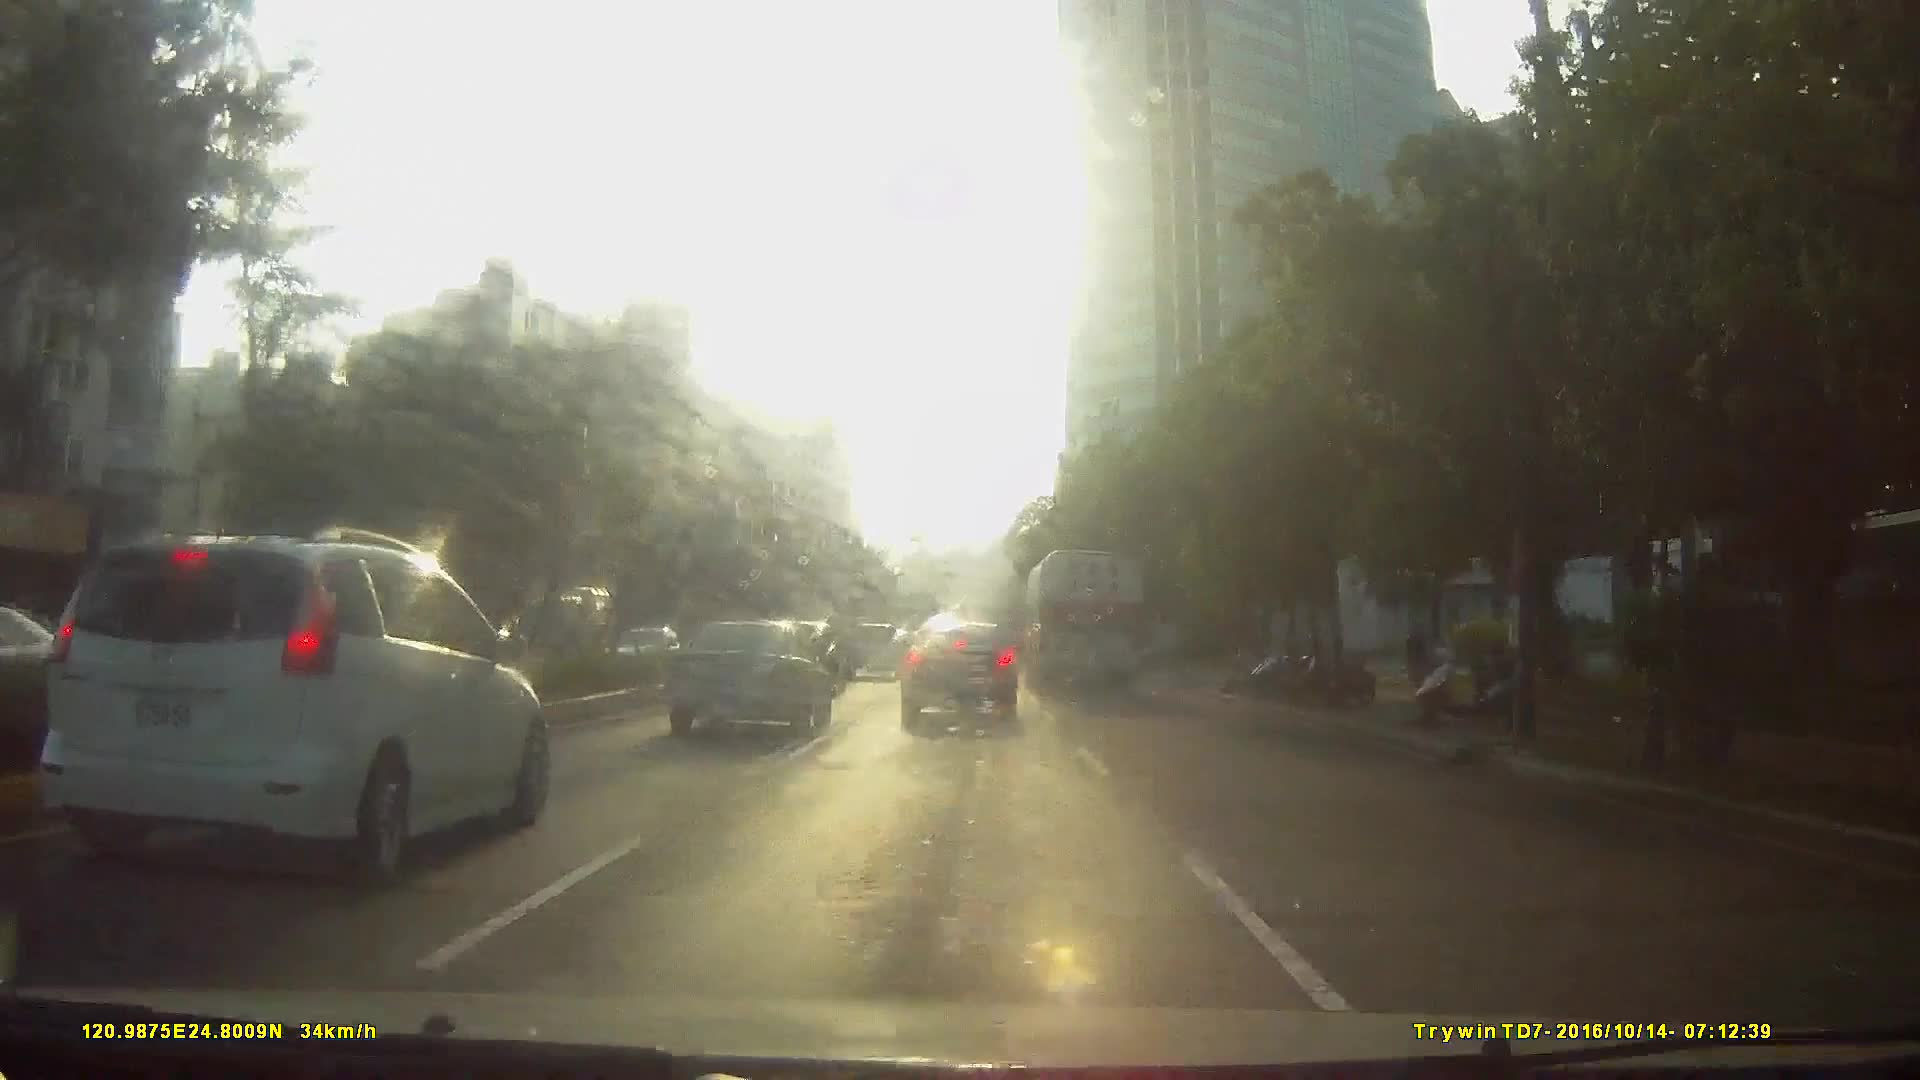pedestrian: (1401, 610, 1432, 702)
vehicle: (59, 510, 550, 890), (250, 556, 684, 868), (657, 612, 829, 736), (1021, 538, 1145, 692), (896, 617, 1021, 716), (507, 577, 606, 663), (841, 618, 902, 678)
